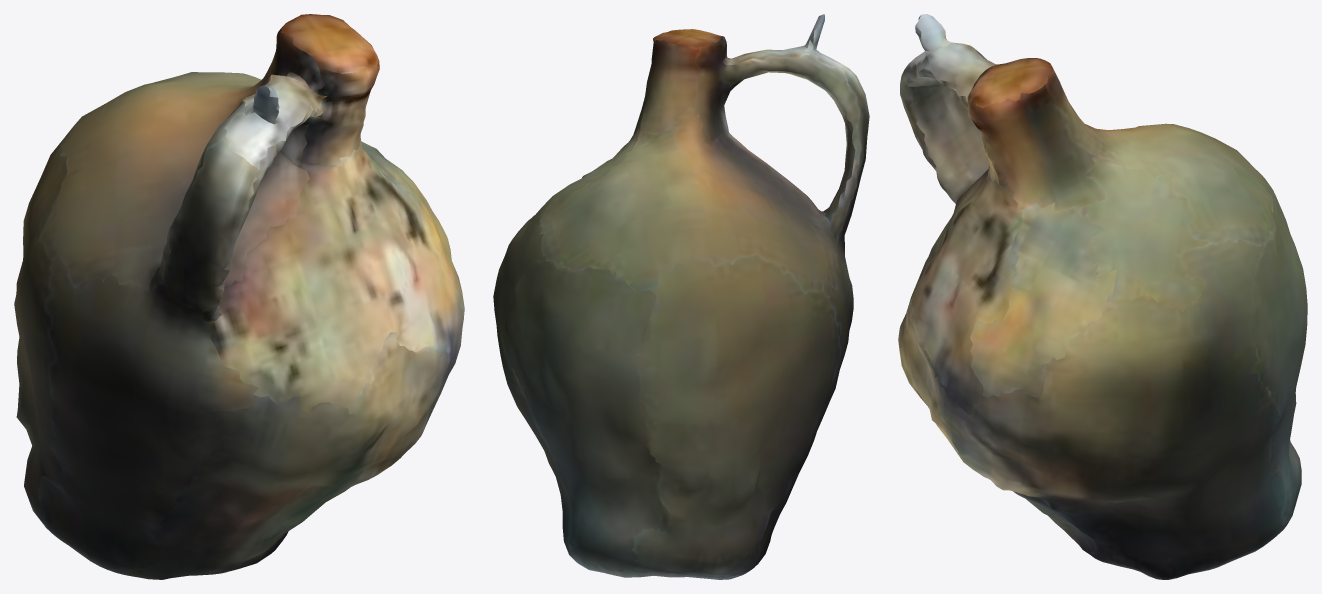
The model's file is 9_vase.glb.
The picture shows the model from 3 angles, left to right: view 1: azimuth 30°, elevation 25°; view 2: azimuth 150°, elevation 25°; view 3: azimuth 270°, elevation 25°; orthographic projection. The views are drawn at different scales.
Parts seen in each view (by area): view 1: 9_vase; view 2: 9_vase; view 3: 9_vase.
Part boxes in pixels (box(x1,y1,x2,y2)): 9_vase: box(14, 14, 464, 579); 9_vase: box(493, 14, 869, 579); 9_vase: box(898, 14, 1307, 579).
Bounding box in the file's own units: 0.3018 × 0.4413 × 0.3203.
1 material, 1 textured.
